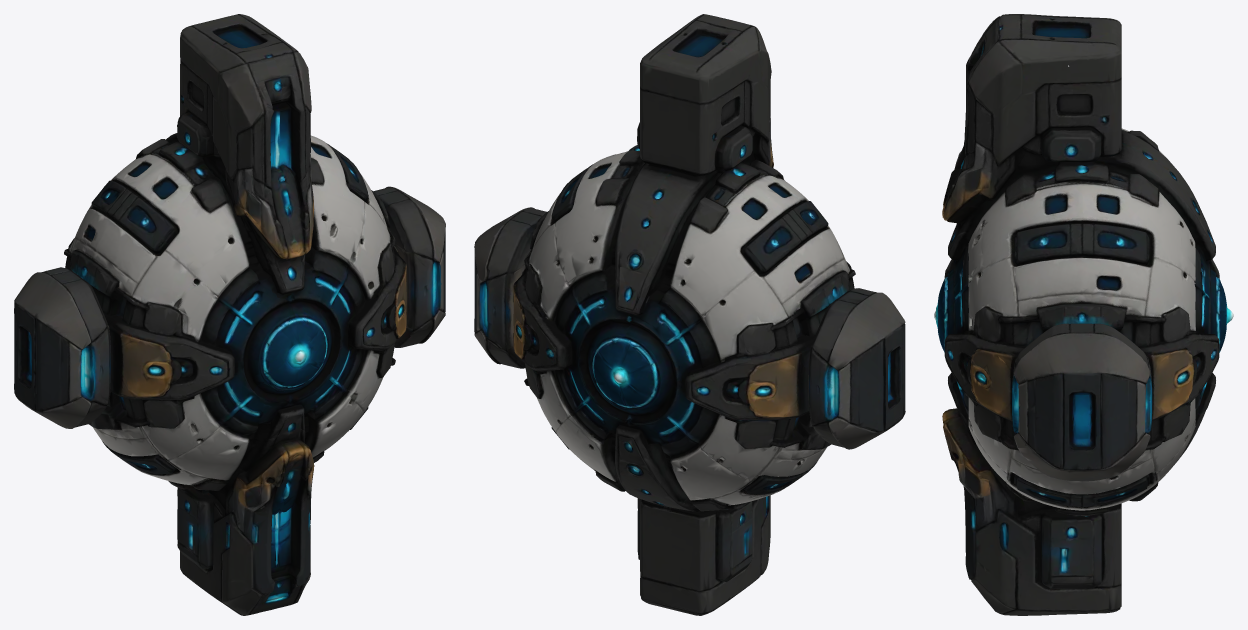
Rendered from pet-drone-lv4.glb.
3 views of the same model, side by side, from view 1: azimuth 30°, elevation 25°; view 2: azimuth 150°, elevation 25°; view 3: azimuth 270°, elevation 25° (orthographic). The views are drawn at different scales.
Visible parts, largest first — view 1: tripo_node_38f2b1bf-5e96-488c-8bca-73a28fb42570; view 2: tripo_node_38f2b1bf-5e96-488c-8bca-73a28fb42570; view 3: tripo_node_38f2b1bf-5e96-488c-8bca-73a28fb42570.
Part boxes in pixels (x1,y1,x2,y2): tripo_node_38f2b1bf-5e96-488c-8bca-73a28fb42570: (14, 14, 445, 615); tripo_node_38f2b1bf-5e96-488c-8bca-73a28fb42570: (474, 14, 905, 615); tripo_node_38f2b1bf-5e96-488c-8bca-73a28fb42570: (934, 14, 1233, 615).
Bounding box in the file's own units: 0.7569 × 0.9814 × 0.4617.
Materials: 1 (1 with a texture image).
